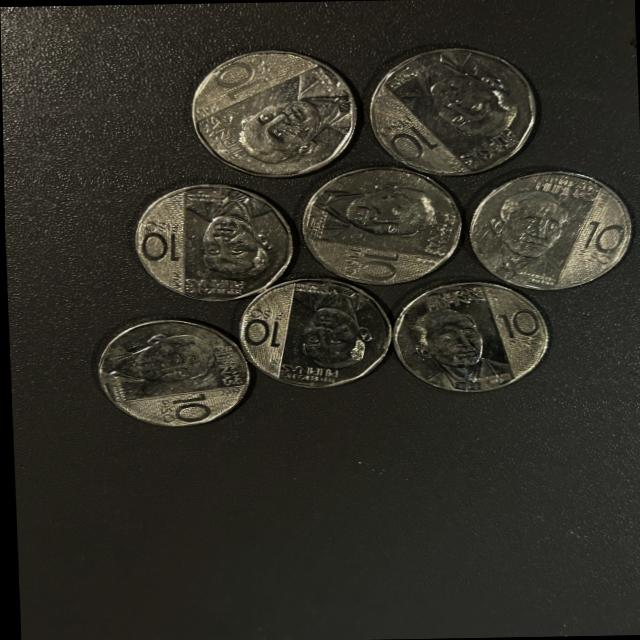10_New_Front: (203, 28, 347, 176), (369, 46, 525, 178), (131, 175, 292, 296), (461, 172, 623, 292), (398, 268, 546, 382), (225, 281, 379, 384), (302, 170, 448, 278), (106, 324, 237, 424)
